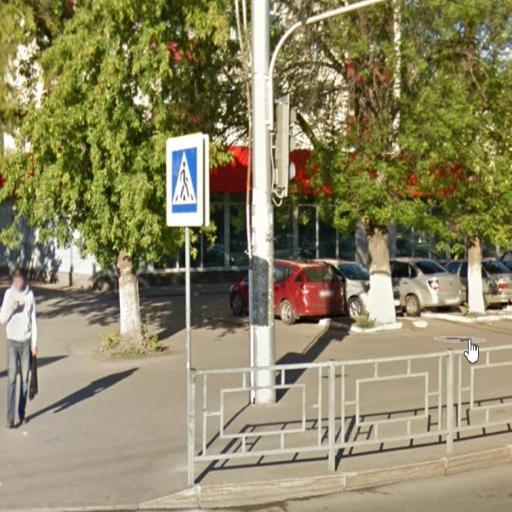traffic_sign: (165, 134, 207, 231)
